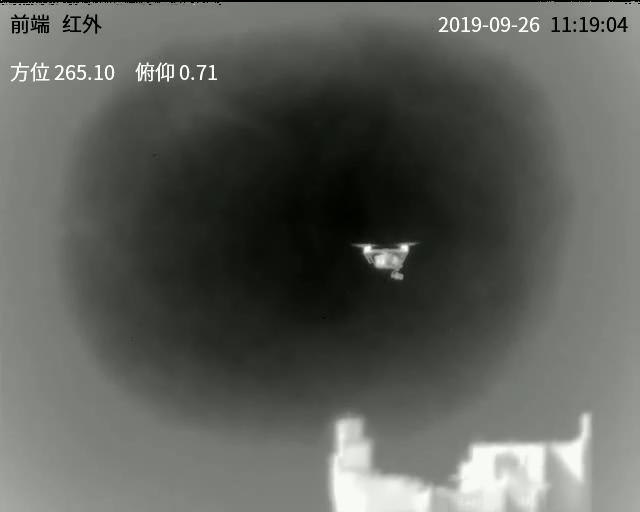uav: (351, 229, 422, 282)
